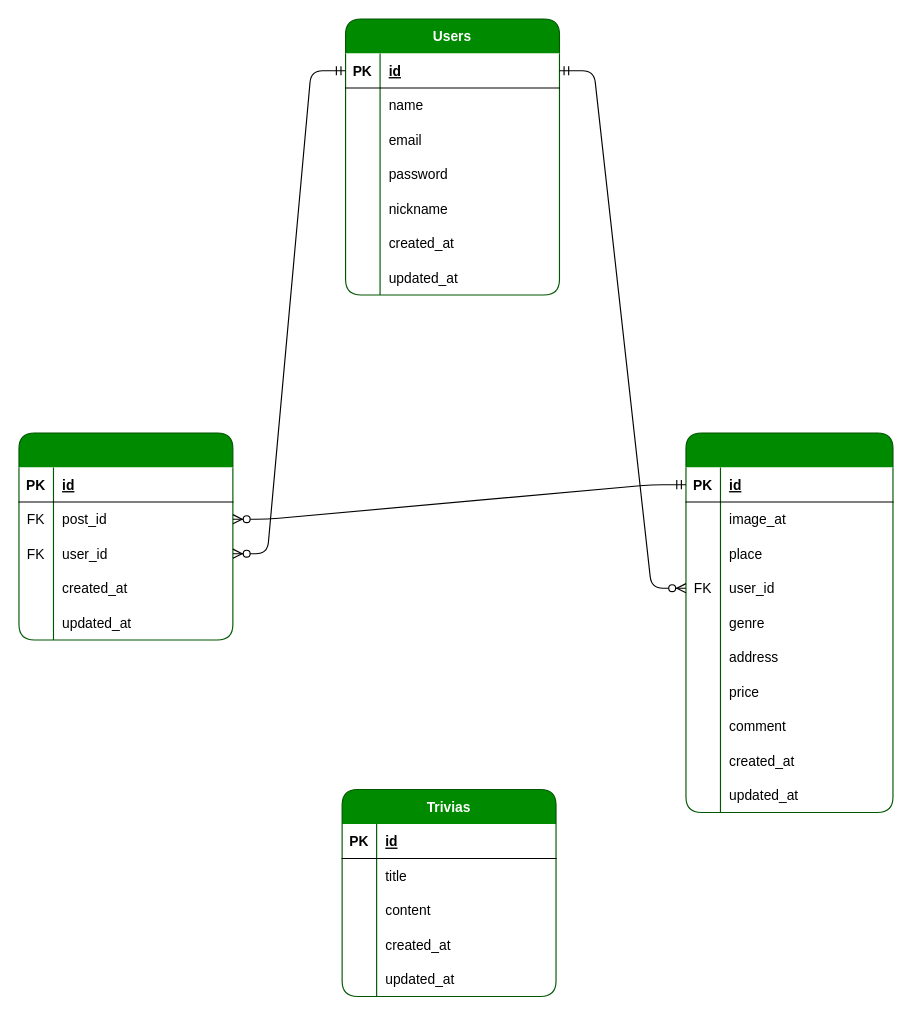
Some shapes in this 912 by 1015 pixel diagram are drawn without their labels. Each missing label, with the box of its shape:
Favorites: (18, 432, 233, 640)
Posts: (685, 432, 893, 812)
